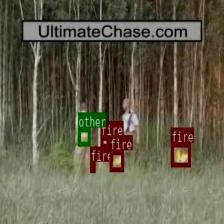fire: (171, 142, 190, 166), (109, 150, 123, 171), (100, 135, 109, 147), (90, 161, 95, 171)
